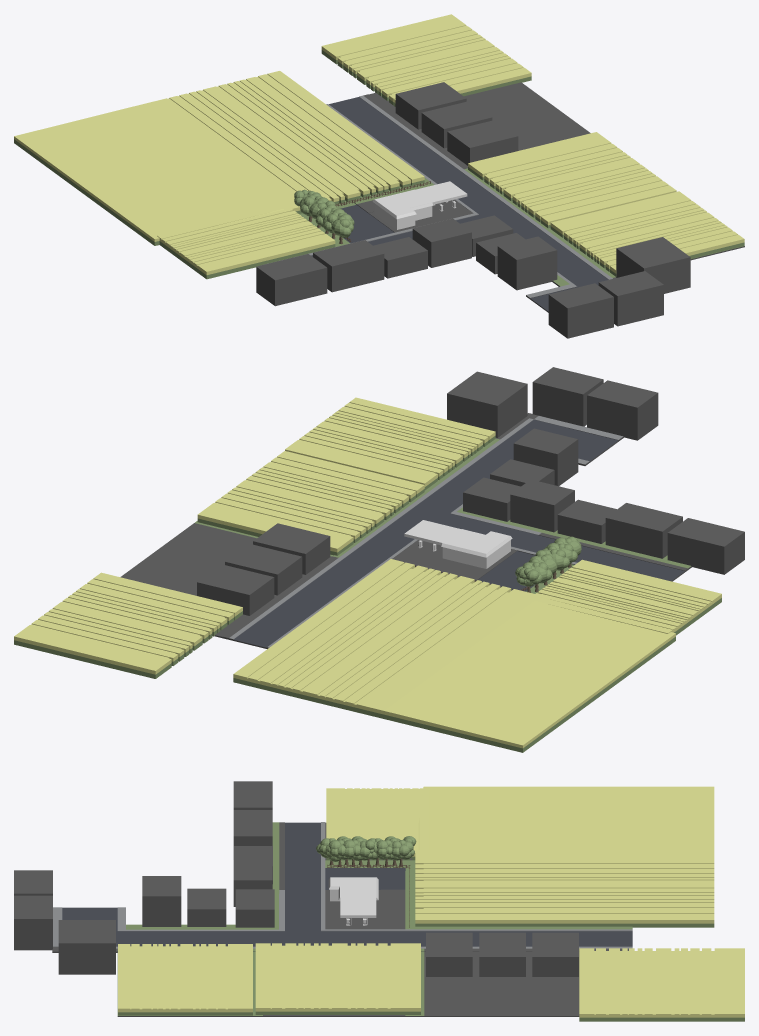
The model's file is Gas_Station_2.0.fbx.
3 views of the same model, one above another, from view 1: azimuth 30°, elevation 25°; view 2: azimuth 150°, elevation 25°; view 3: azimuth 270°, elevation 25° (orthographic). The views are drawn at different scales.
Visible parts, largest first — view 1: Corn1, Extra_Buildings, Floor, Corn3, Corn5, Corn4, Corn2, Roof, Tree_pSphere13, Walls; view 2: Corn1, Extra_Buildings, Floor, Corn5, Corn3, Corn4, Corn2, Roof, Tree_pSphere13, Walls; view 3: Corn1, Floor, Extra_Buildings, Corn5, Corn3, Corn4, Corn2, Tree_pSphere13, Roof.
Part boxes in pixels (<box>): Corn1: <box>14,71,424,245</box>; Extra_Buildings: <box>256,82,690,338</box>; Floor: <box>267,82,744,312</box>; Corn3: <box>468,132,676,228</box>; Corn5: <box>321,14,531,106</box>; Corn4: <box>550,191,744,276</box>; Corn2: <box>157,204,335,279</box>; Roof: <box>372,181,467,219</box>; Tree_pSphere13: <box>294,189,354,244</box>; Walls: <box>374,203,432,229</box>; Corn1: <box>233,559,675,752</box>; Extra_Buildings: <box>197,367,744,615</box>; Floor: <box>120,413,691,648</box>; Corn5: <box>14,572,242,678</box>; Corn3: <box>197,451,424,555</box>; Corn4: <box>285,397,495,490</box>; Corn2: <box>528,559,721,635</box>; Roof: <box>404,520,512,557</box>; Tree_pSphere13: <box>515,536,581,592</box>; Walls: <box>442,540,510,568</box>; Corn1: <box>415,786,714,927</box>; Floor: <box>52,822,632,1016</box>; Extra_Buildings: <box>14,781,578,976</box>; Corn5: <box>579,948,744,1021</box>; Corn3: <box>255,943,420,1014</box>; Corn4: <box>118,944,252,1015</box>; Corn2: <box>326,788,428,860</box>; Tree_pSphere13: <box>316,836,416,867</box>; Roof: <box>328,877,378,917</box>.
Bounding box in the file's own units: 2065 × 140 × 2797.
